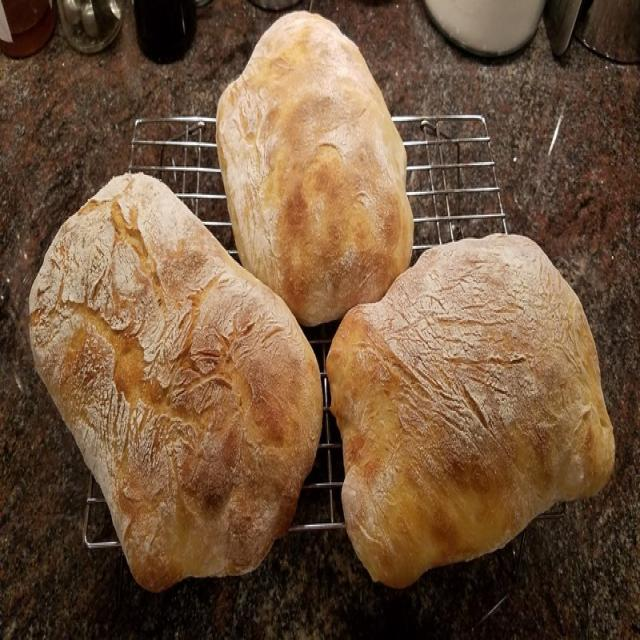Ciabatta: (29, 174, 321, 590), (326, 235, 614, 587), (217, 11, 413, 324)
